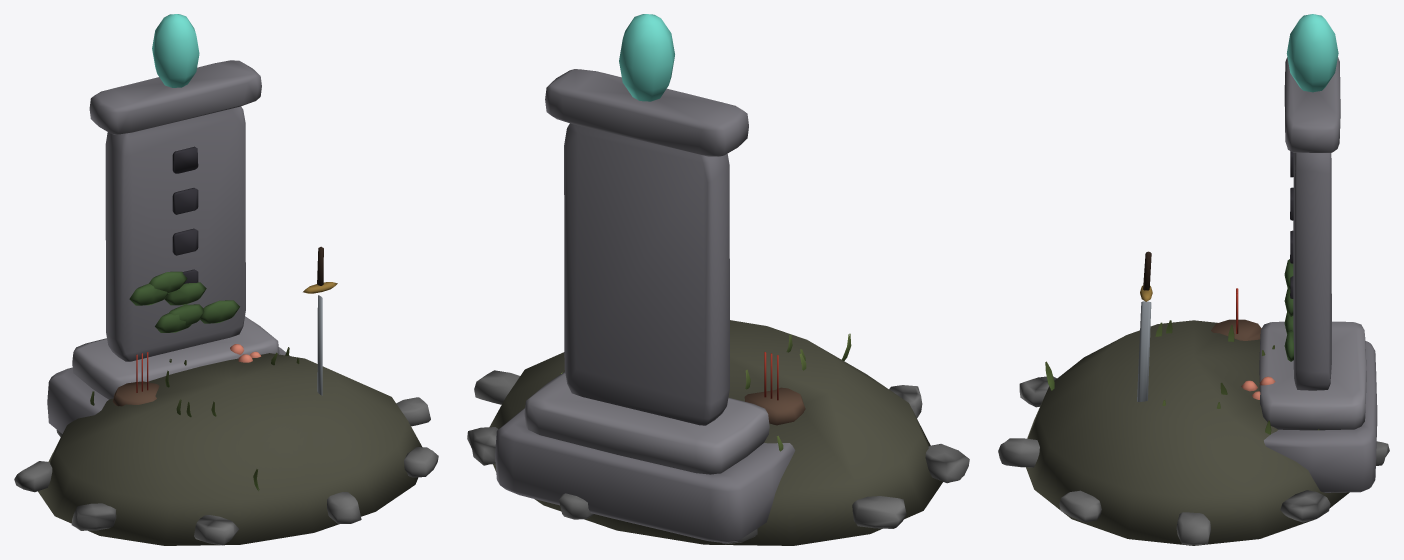
File: tombstone.glb
The picture shows the model from 3 angles, left to right: view 1: azimuth 30°, elevation 25°; view 2: azimuth 150°, elevation 25°; view 3: azimuth 270°, elevation 25°; orthographic projection. The views are drawn at different scales.
Visible parts, largest first — view 1: tombstone; view 2: tombstone; view 3: tombstone.
Boxes of the visible parts, <box> form: tombstone: <box>14,14,438,545</box>; tombstone: <box>467,14,969,545</box>; tombstone: <box>998,14,1389,545</box>.
Size of the model in its own units: 2.16 by 2.25 by 1.81.
